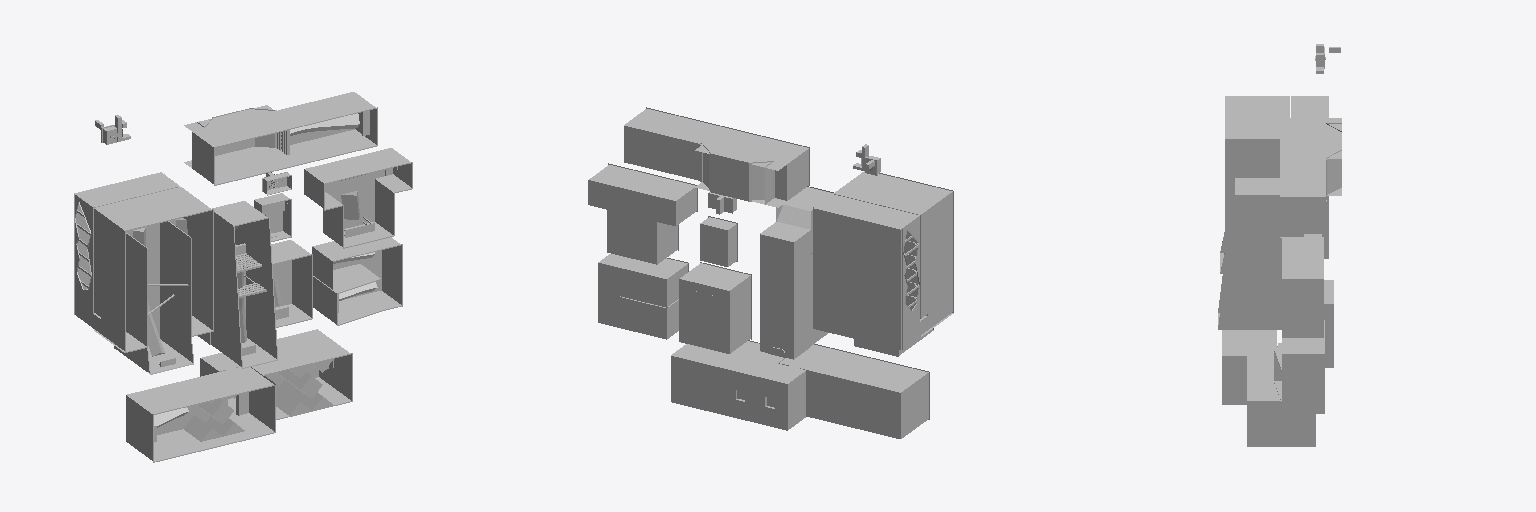
The model's file is surf_beginner.obj.
3 renders of one model, left to right at view 1: azimuth 30°, elevation 25°; view 2: azimuth 150°, elevation 25°; view 3: azimuth 270°, elevation 25°, orthographic.
Visible parts, largest first — view 1: VBSP_Object.model_0, VBSP_Object.model_10, VBSP_Object.model_54, VBSP_Object.model_60, VBSP_Object.model_5, VBSP_Object.model_27, VBSP_Object.model_12; view 2: VBSP_Object.model_0, VBSP_Object.model_20; view 3: VBSP_Object.model_0.
Part boxes in pixels (x1,y1,x2,y2): VBSP_Object.model_0: (74,92,412,462); VBSP_Object.model_10: (325,151,384,228); VBSP_Object.model_54: (126,223,159,336); VBSP_Object.model_60: (74,176,146,314); VBSP_Object.model_5: (273,240,291,307); VBSP_Object.model_27: (157,376,226,434); VBSP_Object.model_12: (333,250,381,299); VBSP_Object.model_0: (588,107,953,438); VBSP_Object.model_20: (748,161,773,201); VBSP_Object.model_0: (1218,44,1341,446).
Bounding box in the file's own units: 10912 × 10096 × 3712.